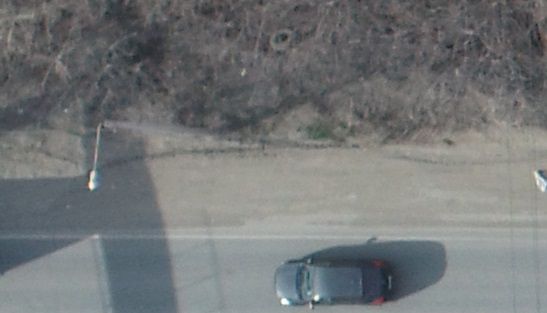opora: (87, 107, 270, 191)
